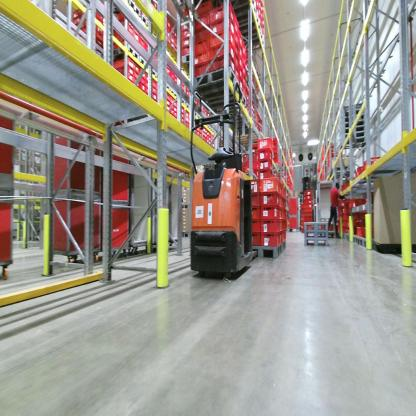pallet: (187, 64, 238, 101), (206, 88, 247, 116), (104, 42, 142, 64), (237, 15, 260, 40), (243, 30, 264, 55), (114, 2, 144, 19), (340, 101, 367, 118), (254, 243, 282, 259), (232, 1, 255, 20), (339, 137, 366, 149), (340, 125, 366, 137), (301, 239, 328, 250), (341, 120, 367, 130), (339, 130, 367, 139), (328, 164, 352, 174), (139, 54, 152, 72), (362, 236, 377, 249), (305, 223, 328, 231), (305, 231, 328, 239), (340, 115, 366, 122), (143, 11, 152, 31), (161, 76, 171, 93), (150, 63, 160, 79), (179, 51, 192, 63), (169, 86, 178, 99), (177, 93, 186, 106), (343, 235, 356, 243), (355, 235, 363, 246), (186, 100, 192, 113), (281, 239, 286, 254)
pallet_truck: (178, 96, 258, 295)
small_load_carrier: (206, 3, 237, 26), (210, 17, 236, 40), (208, 39, 234, 61), (208, 27, 235, 48), (207, 49, 235, 69), (189, 1, 214, 17), (81, 25, 106, 41), (260, 205, 281, 223), (355, 166, 380, 181), (260, 178, 283, 194), (261, 190, 280, 209), (192, 21, 209, 41), (257, 168, 277, 184), (189, 36, 210, 51), (83, 10, 105, 24), (191, 46, 209, 63), (260, 231, 279, 247), (113, 56, 134, 70), (192, 12, 209, 29), (257, 135, 276, 150), (119, 20, 134, 39), (349, 197, 369, 211), (356, 225, 376, 239), (364, 153, 383, 167), (248, 202, 261, 222), (256, 146, 272, 162), (191, 63, 209, 77), (240, 150, 259, 163), (260, 220, 279, 233), (82, 19, 104, 30), (247, 191, 261, 208), (257, 158, 273, 172), (239, 160, 257, 172), (118, 63, 134, 76), (249, 218, 261, 234), (180, 8, 194, 21), (180, 35, 193, 49), (178, 45, 192, 58), (247, 178, 261, 191), (132, 25, 141, 45), (91, 37, 107, 48), (180, 18, 194, 30), (347, 210, 361, 222), (123, 71, 134, 84), (180, 28, 194, 38), (347, 219, 362, 228), (252, 231, 261, 245), (337, 197, 351, 206), (140, 82, 149, 96), (133, 68, 141, 82), (133, 63, 141, 75), (133, 78, 141, 89), (140, 67, 148, 78), (151, 80, 159, 91), (150, 91, 157, 103), (140, 36, 146, 49), (141, 75, 148, 86), (233, 67, 239, 79), (238, 81, 244, 93), (236, 19, 241, 33), (235, 41, 240, 55), (235, 51, 239, 67), (239, 67, 243, 83), (72, 10, 80, 18), (337, 206, 346, 213), (72, 18, 81, 25), (240, 30, 243, 50), (279, 219, 284, 231), (167, 61, 171, 76), (235, 31, 239, 45), (279, 231, 283, 244), (152, 86, 157, 96), (239, 47, 243, 59), (166, 90, 170, 102), (239, 58, 242, 73), (165, 105, 170, 114), (166, 96, 170, 107)
